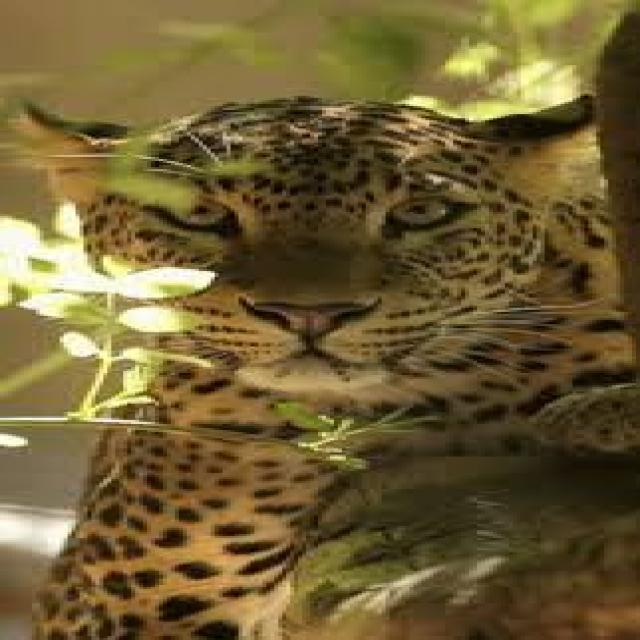Jaguar: (24, 65, 576, 640)
